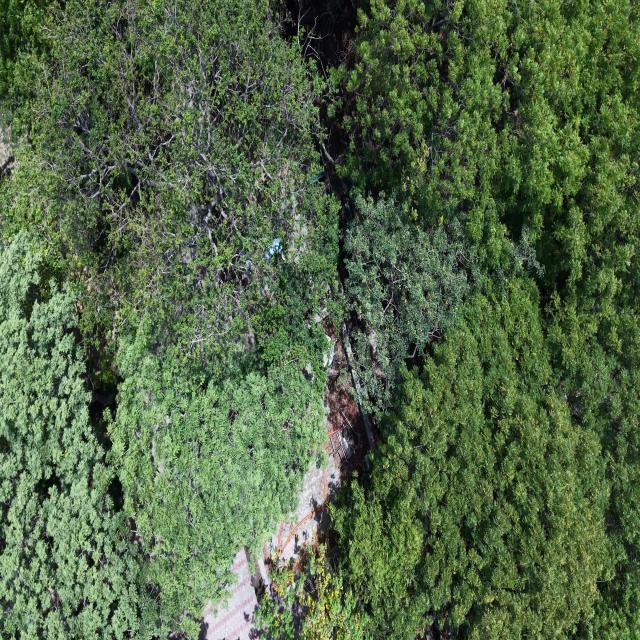DRY_AREA: (201, 328, 367, 639)
VEGETATION_TREE: (0, 0, 639, 639), (0, 0, 337, 637), (335, 2, 639, 637), (3, 0, 336, 377), (335, 278, 609, 639), (0, 233, 157, 638), (108, 343, 324, 617), (345, 196, 472, 410), (257, 545, 370, 639), (0, 0, 48, 95)
